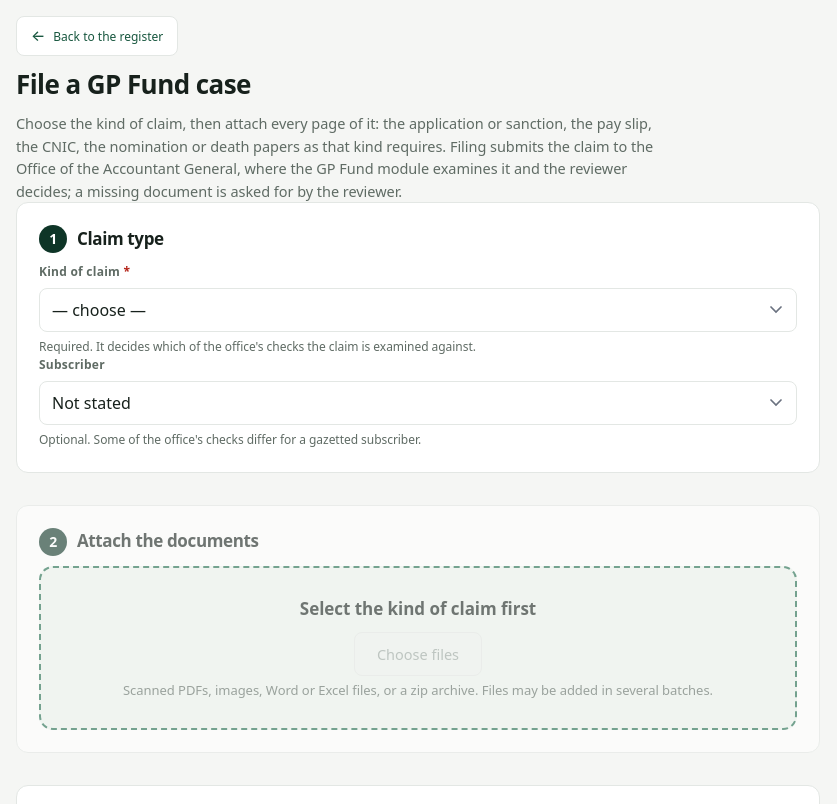
Test: choosing the kind shows what the office checks it for › lists the papers, as a pension case type lists its documents
Select "Final payment — death" in the dropdown labelled "Kind of claim *" at (418, 310), box [39,288,797,332]
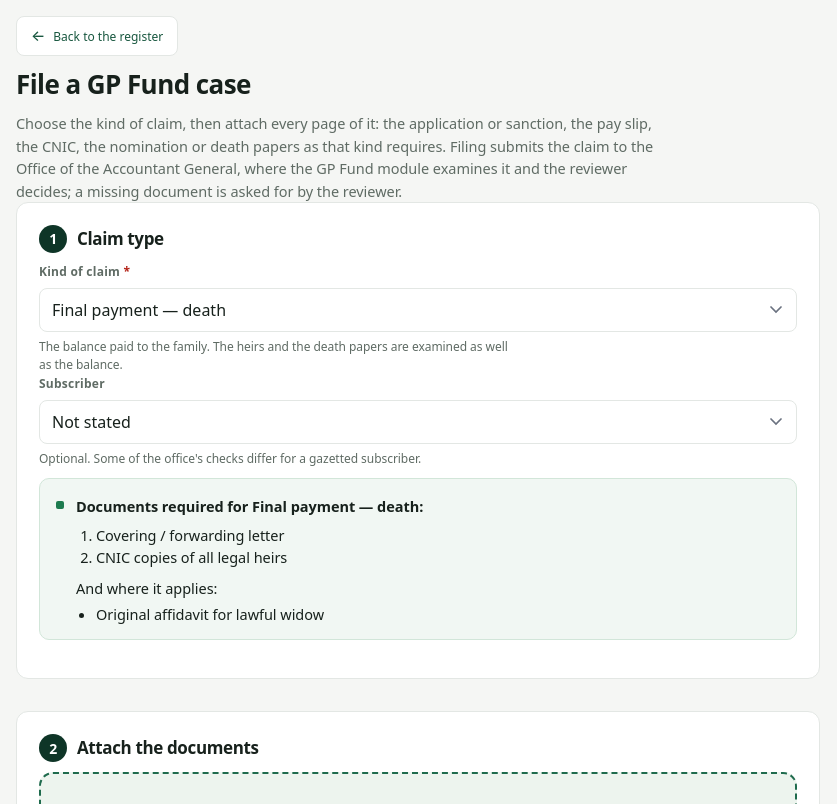
expect the text "Documents required for Final payment — death:" is shown: met, box [76,496,423,516]
expect the list "Covering / forwarding letter CNIC copies of all legal heirs" is shown: met, box [96,525,287,567]
